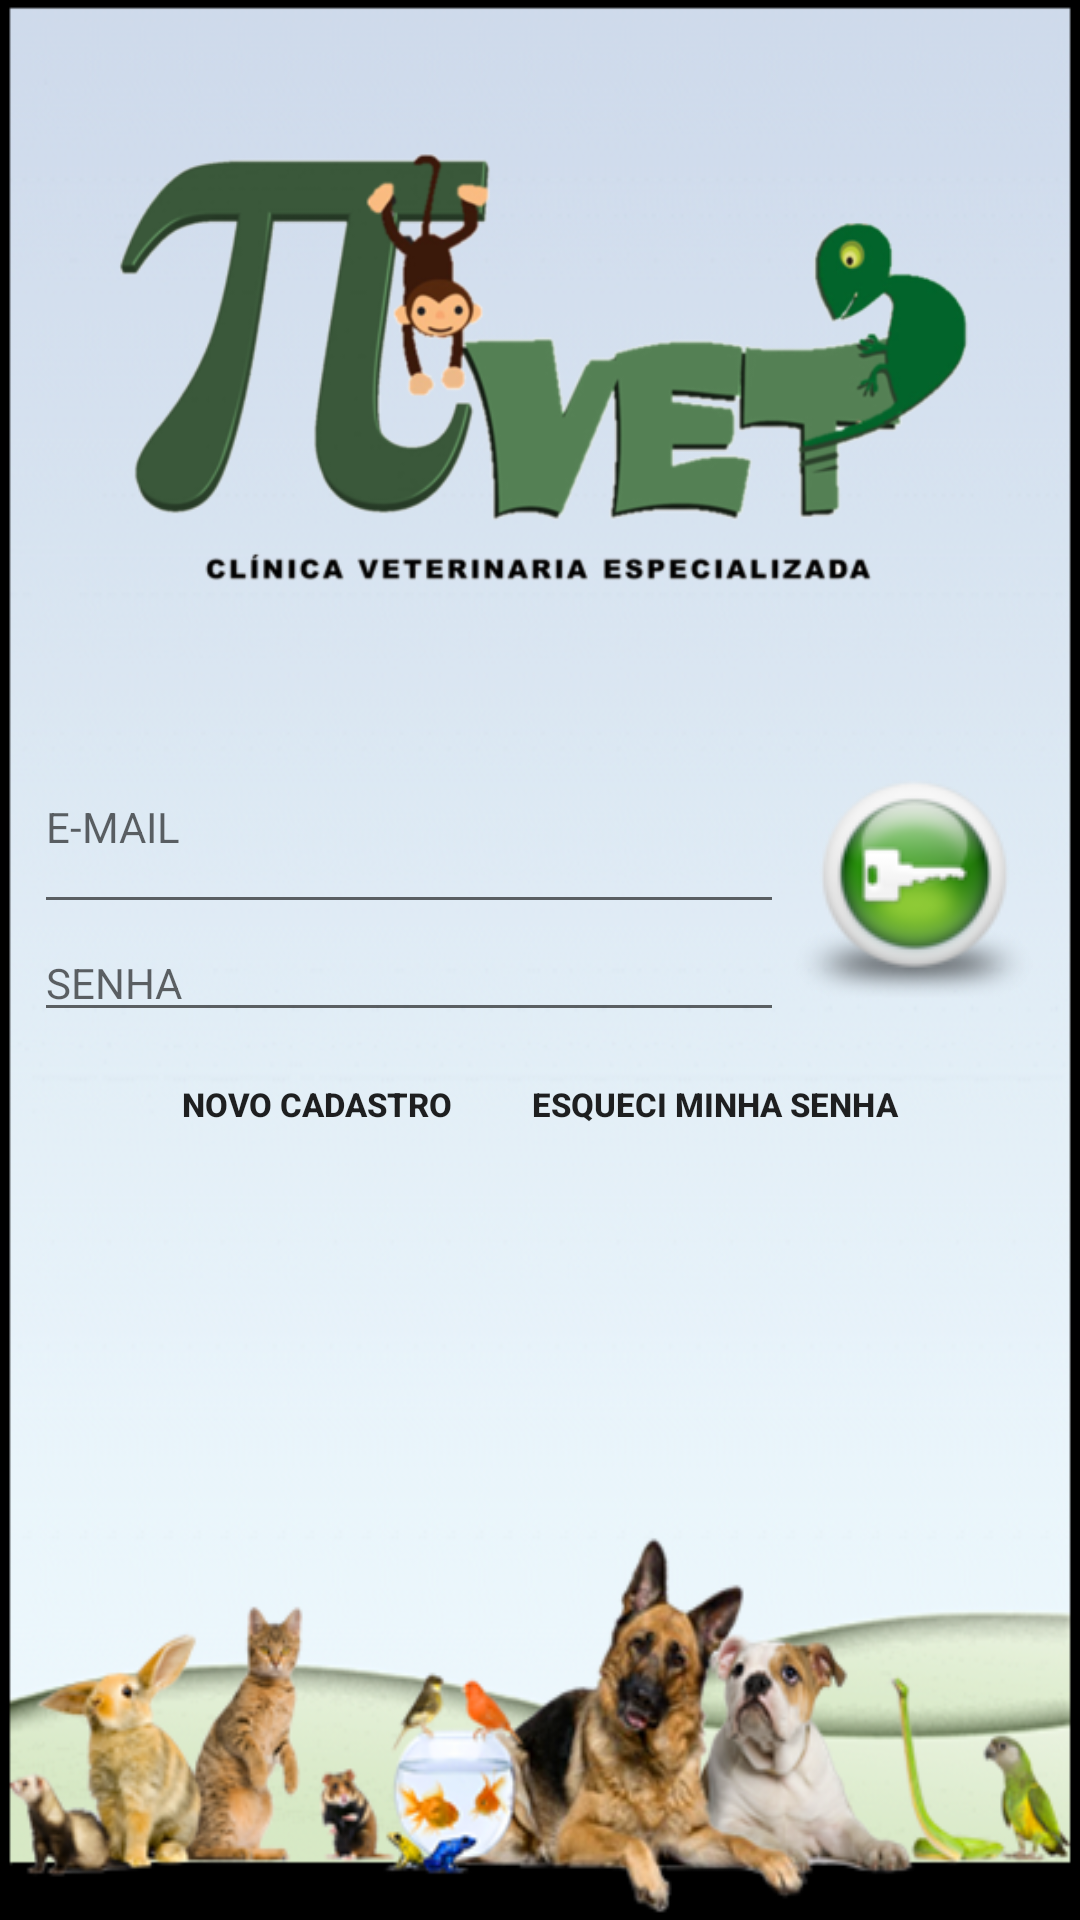

Icons on this 1080 x 1920 Android screen, each with the point to tap as point (x, y):
entrar: point (914, 888)
